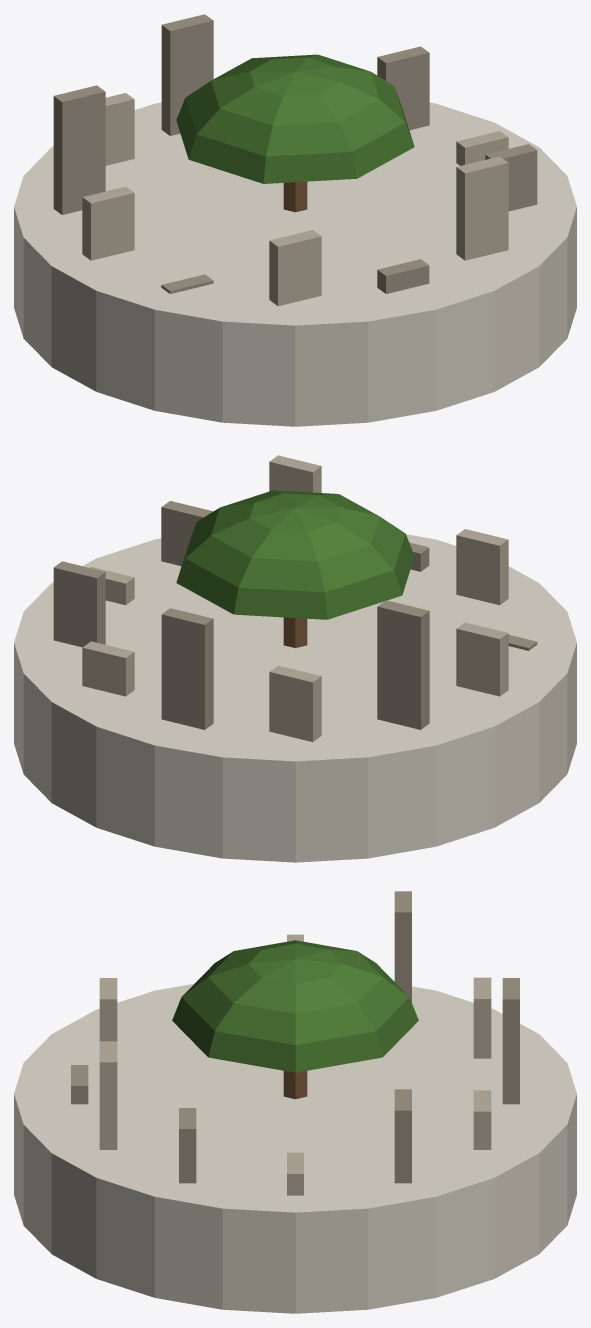
File: rb_slabs.glb
The picture shows the model from 3 angles, top to bottom: view 1: azimuth 30°, elevation 25°; view 2: azimuth 150°, elevation 25°; view 3: azimuth 270°, elevation 25°; orthographic projection.
Parts seen in each view (by area): view 1: rb_slabs_lod0; view 2: rb_slabs_lod0; view 3: rb_slabs_lod0.
Part boxes in pixels (x1=…): rb_slabs_lod0: x1=14, y1=14, x2=576, y2=426; rb_slabs_lod0: x1=14, y1=455, x2=576, y2=862; rb_slabs_lod0: x1=14, y1=891, x2=576, y2=1313.
Size of what is drawn, in the model's own units: 14.6 by 6.74 by 14.6.
